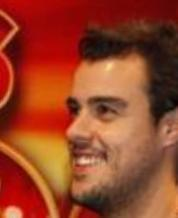face: (66, 97, 121, 176)
